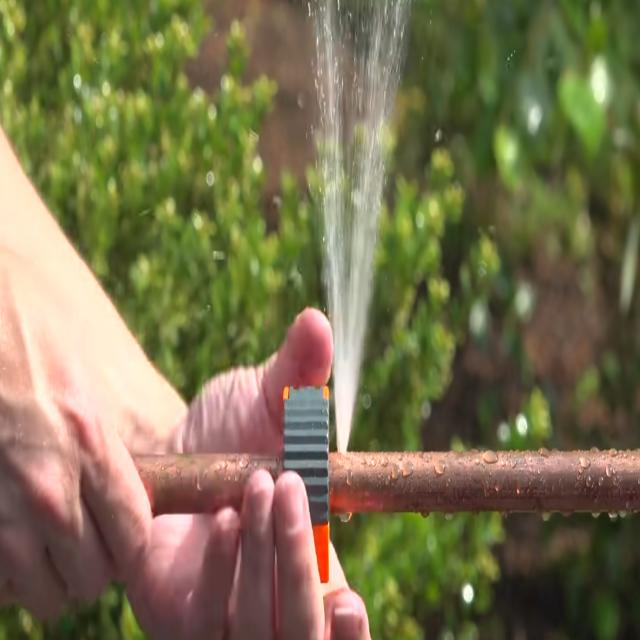leak: (301, 0, 419, 457)
